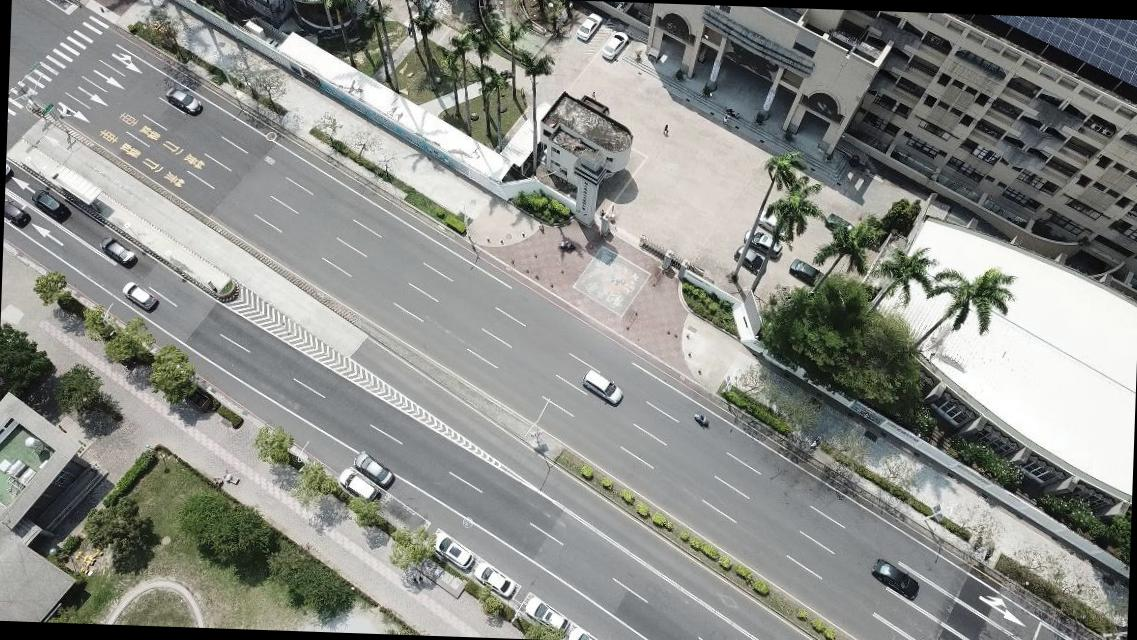vehicle: (870, 556, 920, 598), (524, 594, 571, 634), (470, 560, 518, 596), (354, 449, 395, 485), (582, 370, 622, 406), (338, 466, 378, 502), (119, 280, 157, 316), (98, 235, 138, 268), (436, 532, 472, 568), (31, 188, 66, 225), (742, 228, 782, 259), (732, 245, 768, 277), (166, 87, 201, 118), (755, 208, 790, 238), (600, 31, 631, 64), (786, 258, 824, 284), (827, 212, 860, 240), (3, 198, 28, 227), (578, 14, 601, 42), (567, 624, 599, 639)
